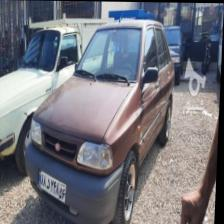plate: (38, 168, 69, 205)
